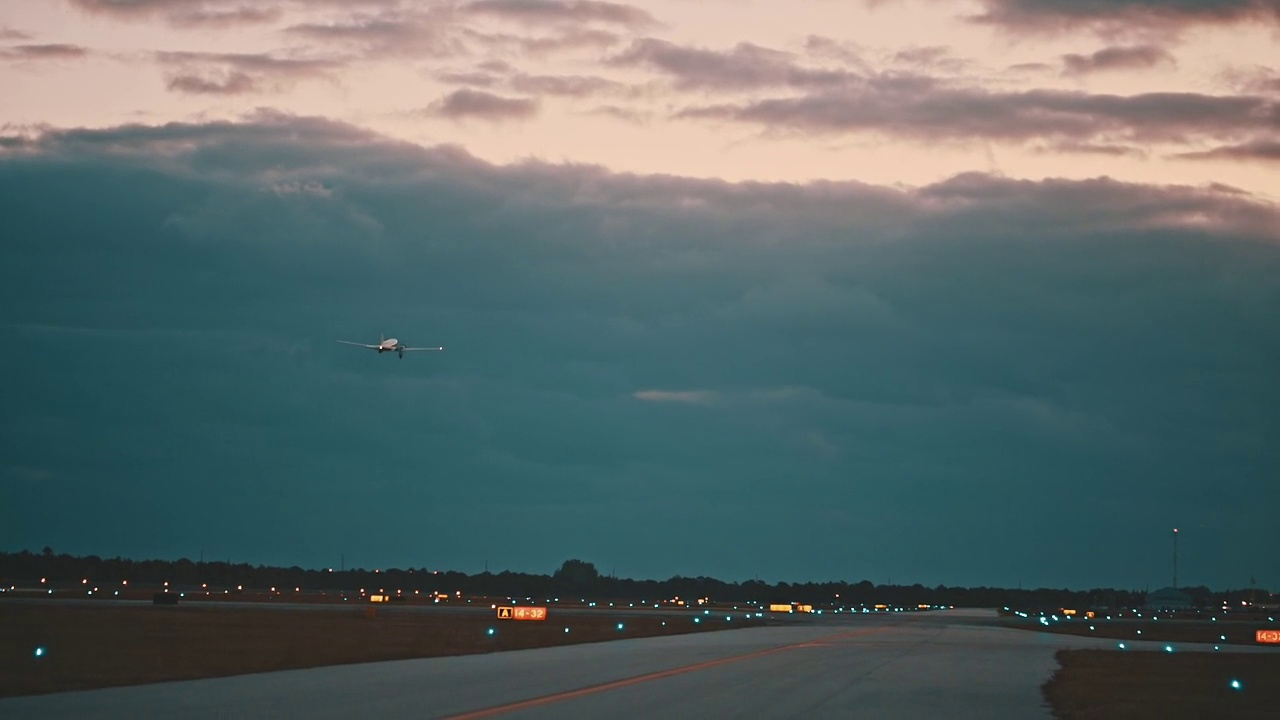plane: (334, 331, 442, 359)
